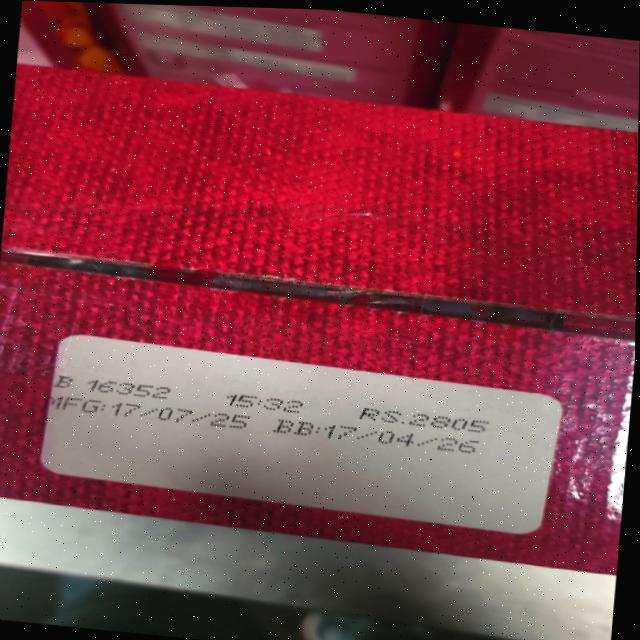BB: (271, 415, 492, 458)
Batch: (50, 372, 183, 403)
MFG: (42, 393, 261, 432)
RS: (356, 403, 492, 439)
TimeStamp: (229, 392, 307, 418)
